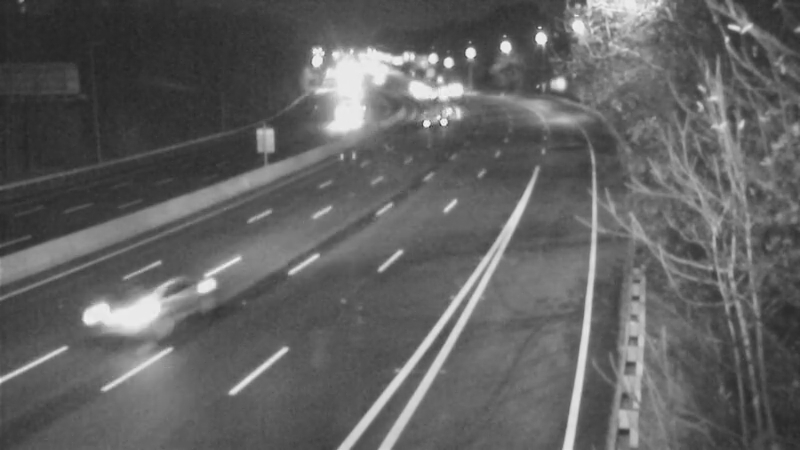vehicle: (68, 265, 178, 375), (401, 85, 451, 135), (317, 90, 367, 140)
